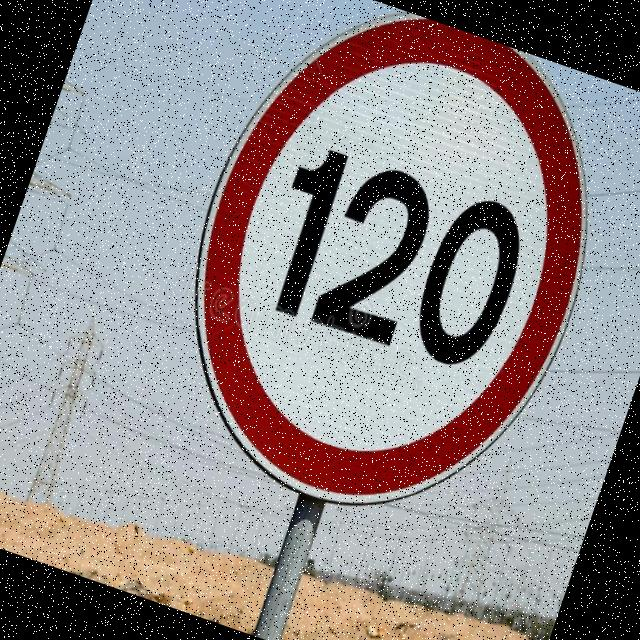speed_limit_120: (127, 0, 640, 562)
